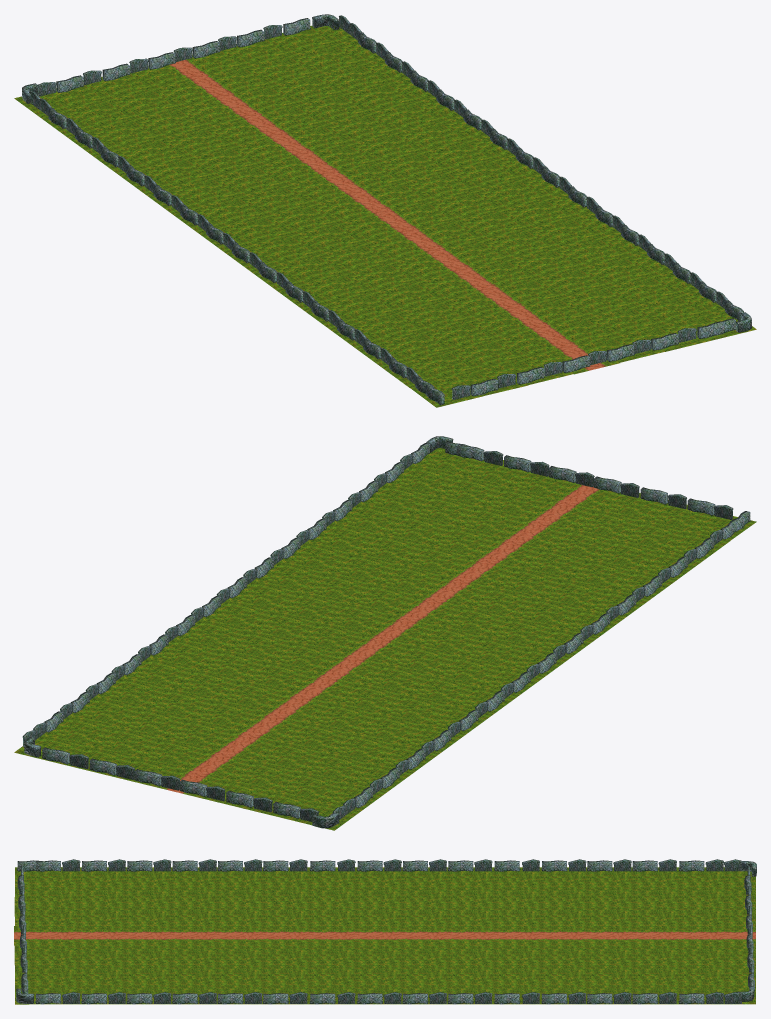
Rendered from blocagem_teste1.glb.
3 views of the same model, one above another, from view 1: azimuth 30°, elevation 25°; view 2: azimuth 150°, elevation 25°; view 3: azimuth 270°, elevation 25° (orthographic). The views are drawn at different scales.
Visible parts, largest first — view 1: CaminhoTemplate3, CaminhoTemplate6, CaminhoTemplate4, CaminhoTemplate5, GramaTemplate20, GramaTemplate62, GramaTemplate24, GramaTemplate17, GramaTemplate12, GramaTemplate33, GramaTemplate41, GramaTemplate48 (+87 smaller); view 2: CaminhoTemplate3, CaminhoTemplate6, CaminhoTemplate5, CaminhoTemplate4, GramaTemplate17, GramaTemplate62, GramaTemplate63, GramaTemplate20, GramaTemplate25, GramaTemplate18, GramaTemplate54, GramaTemplate55 (+87 smaller); view 3: CaminhoTemplate3, CaminhoTemplate6, CaminhoTemplate5, CaminhoTemplate4, GramaTemplate62, GramaTemplate60, GramaTemplate49, GramaTemplate57, GramaTemplate54, GramaTemplate50, GramaTemplate51, GramaTemplate55 (+118 smaller).
Boxes of the visible parts, <box> form: CaminhoTemplate3: <box>258,131,408,219</box>; CaminhoTemplate6: <box>364,209,513,296</box>; CaminhoTemplate4: <box>157,55,303,142</box>; CaminhoTemplate5: <box>468,285,619,374</box>; GramaTemplate20: <box>423,296,493,327</box>; GramaTemplate62: <box>324,269,395,299</box>; GramaTemplate24: <box>317,219,388,249</box>; GramaTemplate17: <box>448,316,520,346</box>; GramaTemplate12: <box>303,119,374,150</box>; GramaTemplate33: <box>375,128,446,158</box>; GramaTemplate41: <box>586,282,657,312</box>; GramaTemplate48: <box>454,186,525,216</box>; CaminhoTemplate3: <box>257,631,408,719</box>; CaminhoTemplate6: <box>364,554,513,641</box>; CaminhoTemplate5: <box>468,481,613,565</box>; CaminhoTemplate4: <box>151,709,302,797</box>; GramaTemplate17: <box>540,526,612,557</box>; GramaTemplate62: <box>506,595,578,625</box>; GramaTemplate63: <box>480,615,552,645</box>; GramaTemplate20: <box>514,546,585,576</box>; GramaTemplate25: <box>449,504,520,534</box>; GramaTemplate18: <box>567,507,638,537</box>; GramaTemplate54: <box>295,750,367,780</box>; GramaTemplate55: <box>269,769,340,799</box>; CaminhoTemplate3: <box>384,926,570,945</box>; CaminhoTemplate6: <box>199,926,385,945</box>; CaminhoTemplate5: <box>14,926,200,945</box>; CaminhoTemplate4: <box>569,926,755,945</box>; GramaTemplate62: <box>246,886,293,906</box>; GramaTemplate60: <box>154,886,200,906</box>; GramaTemplate49: <box>477,886,524,906</box>; GramaTemplate57: <box>108,886,154,906</box>; GramaTemplate54: <box>616,886,663,906</box>; GramaTemplate50: <box>431,886,478,906</box>; GramaTemplate51: <box>385,886,431,906</box>; GramaTemplate55: <box>662,886,709,906</box>.
Size of the model in its own units: 70.15 by 2.69 by 161.
Materials: 2 (2 with a texture image).
